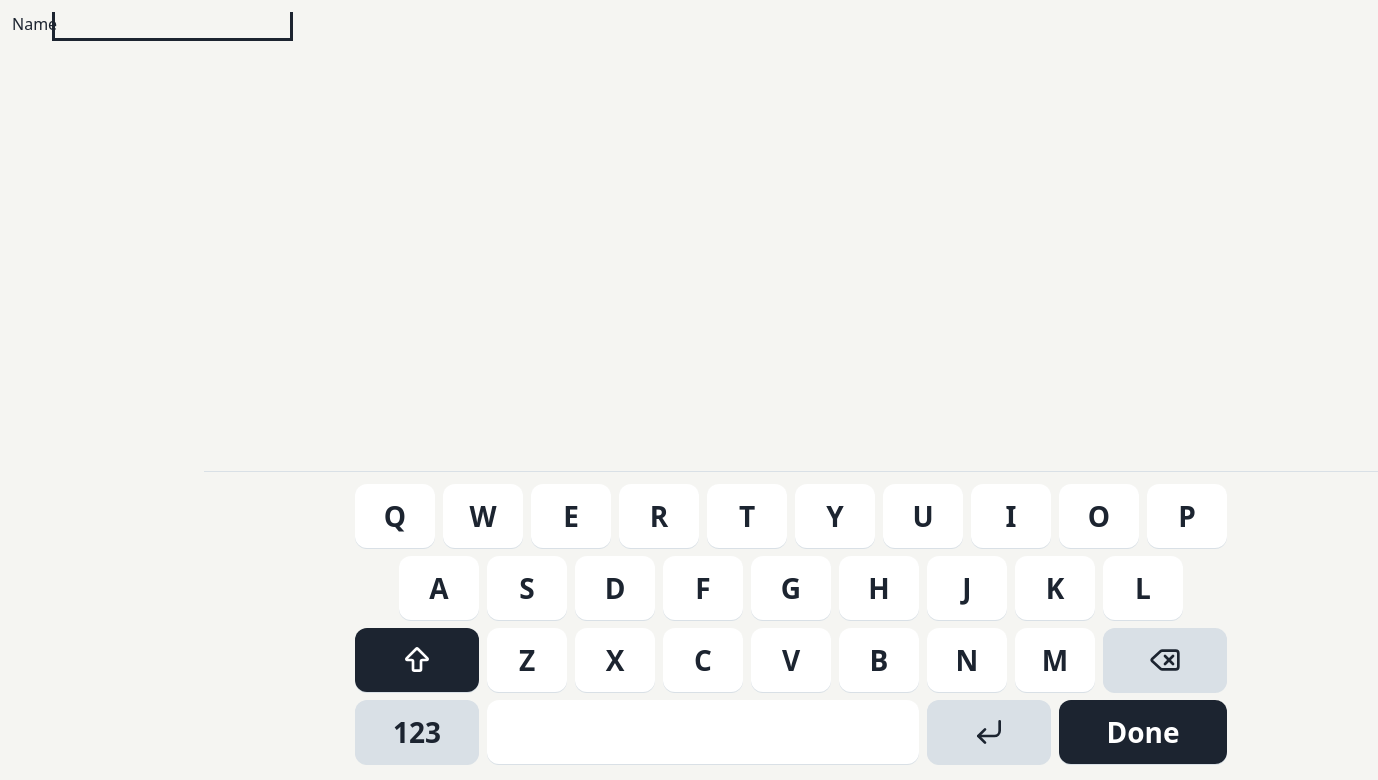
Test: the on-screen keyboard (UX §1) › rises when a field is focused and types into it as React expects
Expected: the element named "On-screen keyboard" is shown, [204,471,1377,779]
Click the button "M".
click(1055, 660)  # box [1015,628,1095,692]
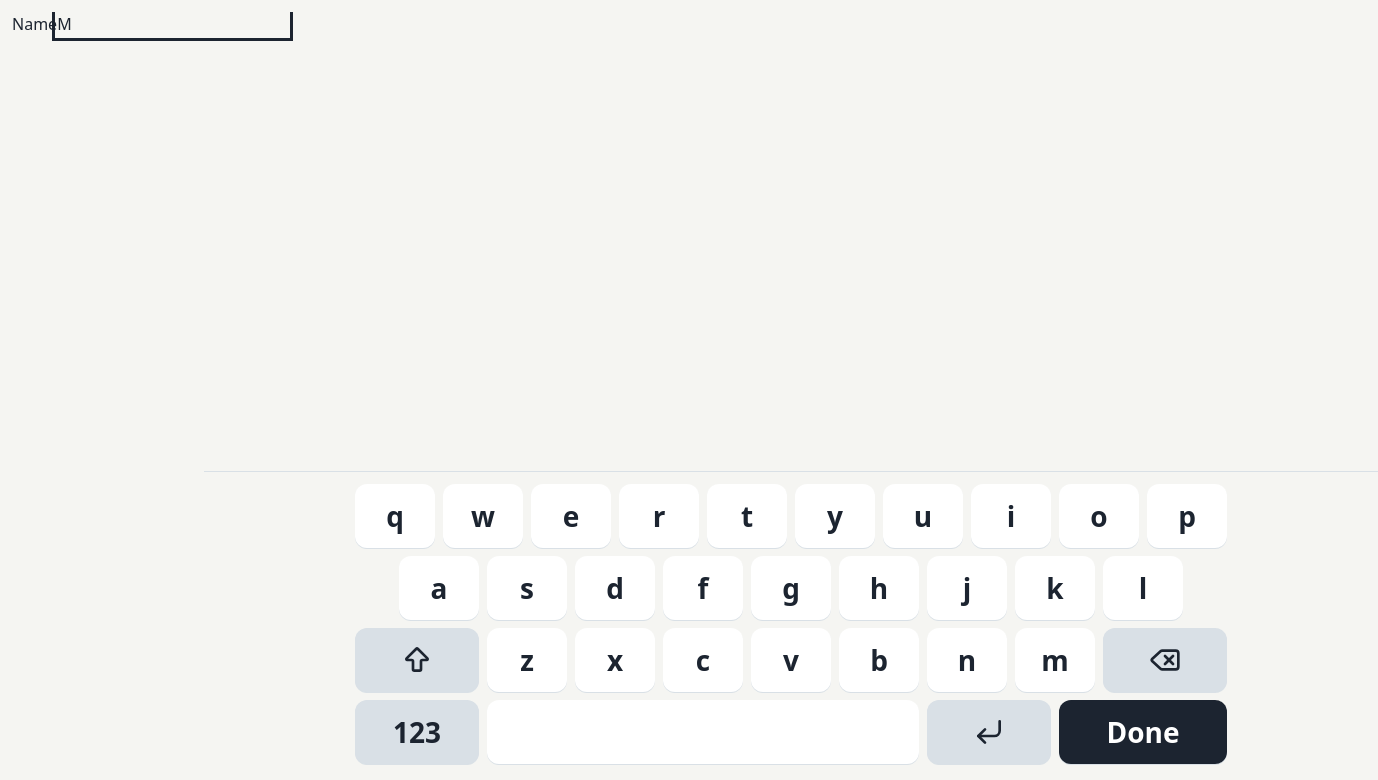
Click the button "i".
click(1011, 516)  # box [971,484,1051,548]
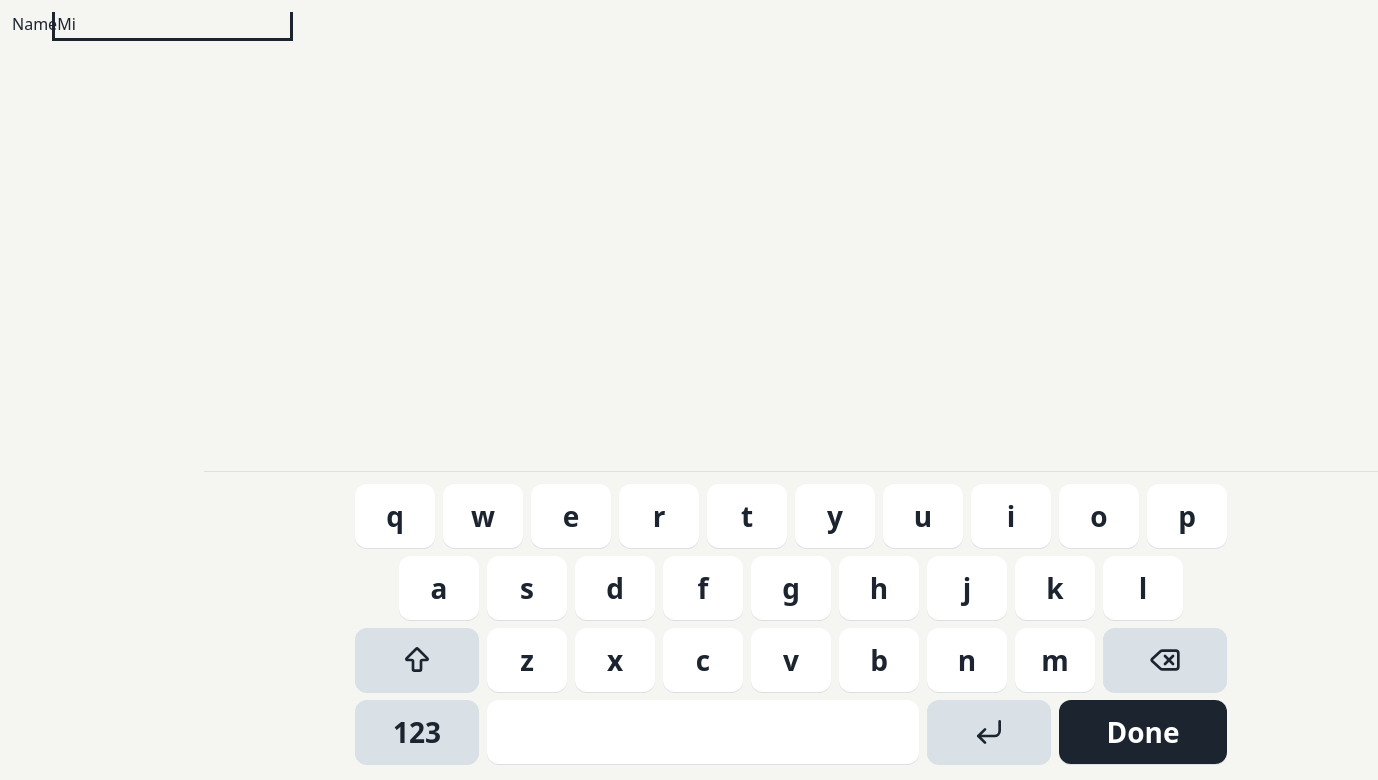
Click the button "a".
click(439, 588)  # box [399,556,479,620]
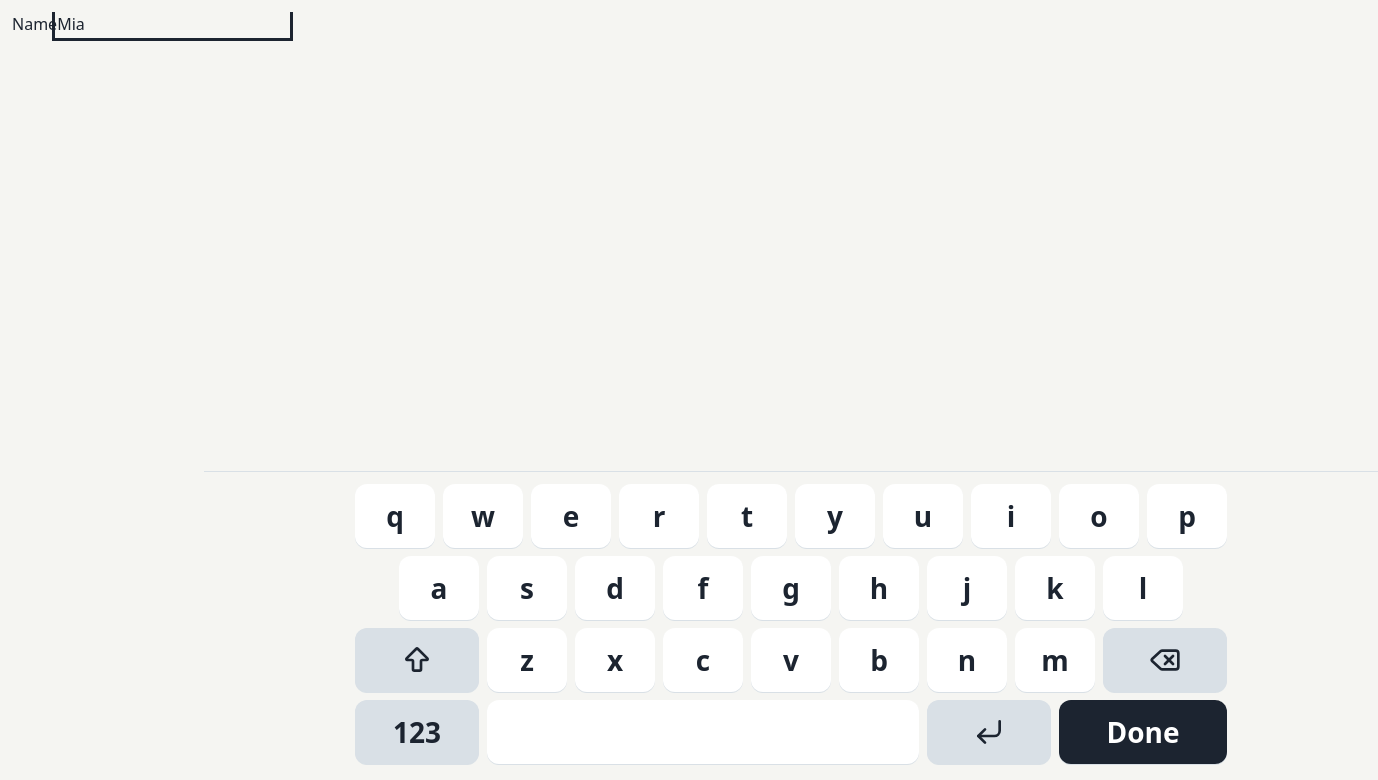
Result: the field labelled "Name" holds "Mia" at [57,12,288,36]
Click the button named "Delete".
click(1165, 660)  # box [1103,628,1227,692]
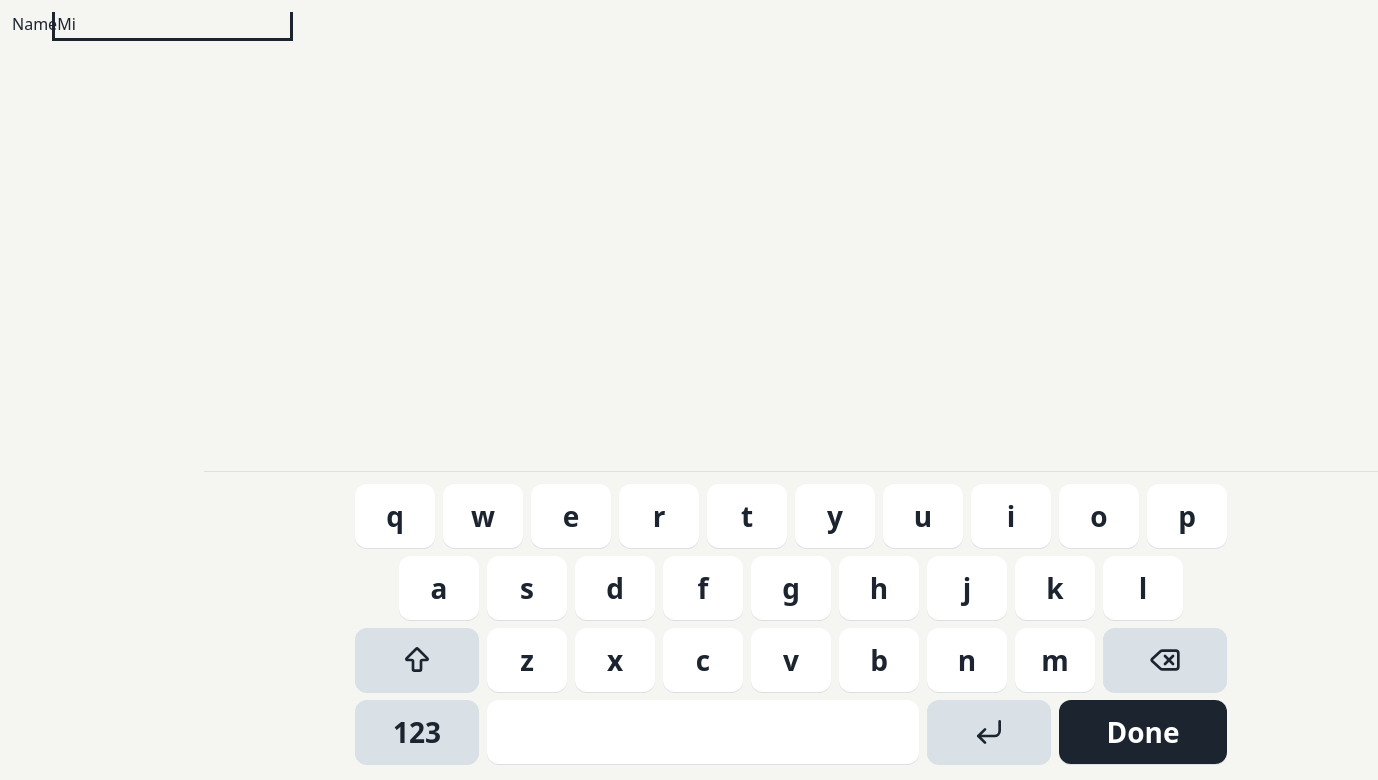
Result: the field labelled "Name" holds "Mi" at [57,12,288,36]
